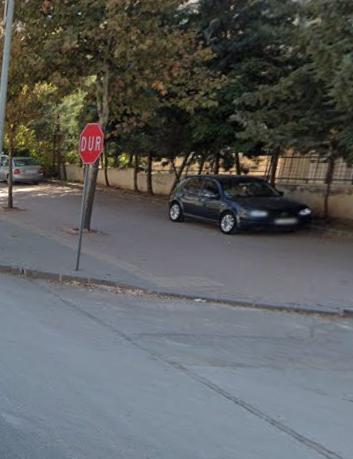stop: (79, 124, 103, 162)
